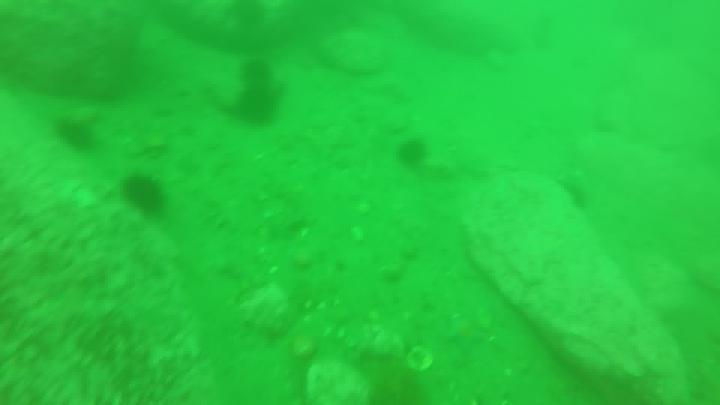echinus: (124, 176, 164, 215), (56, 120, 97, 148), (402, 142, 426, 163)
scallop: (408, 347, 434, 373)
